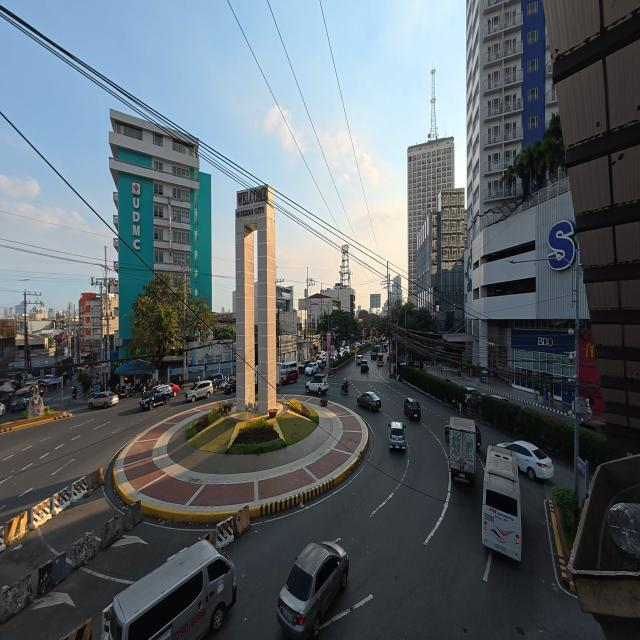Jeepneys: (11, 383, 38, 411), (377, 353, 383, 366), (382, 342, 388, 353)
bus: (482, 446, 521, 560)
car: (277, 542, 349, 638), (498, 441, 553, 479), (140, 385, 173, 410), (185, 380, 214, 402), (356, 391, 382, 411), (88, 392, 119, 408), (389, 422, 406, 451), (305, 376, 329, 394), (580, 419, 605, 434), (404, 398, 420, 420), (281, 369, 299, 384), (465, 387, 481, 403), (209, 373, 224, 388), (223, 378, 236, 394), (490, 394, 511, 403), (305, 362, 318, 375), (298, 360, 310, 373), (475, 423, 481, 449), (169, 383, 179, 396), (361, 361, 369, 372), (317, 359, 325, 370), (370, 350, 377, 360), (356, 354, 362, 365)
motorcycle: (117, 386, 129, 398), (341, 382, 348, 394), (72, 387, 76, 399)
trucks: (449, 417, 475, 482)
vans: (103, 541, 236, 639), (280, 362, 297, 372)
